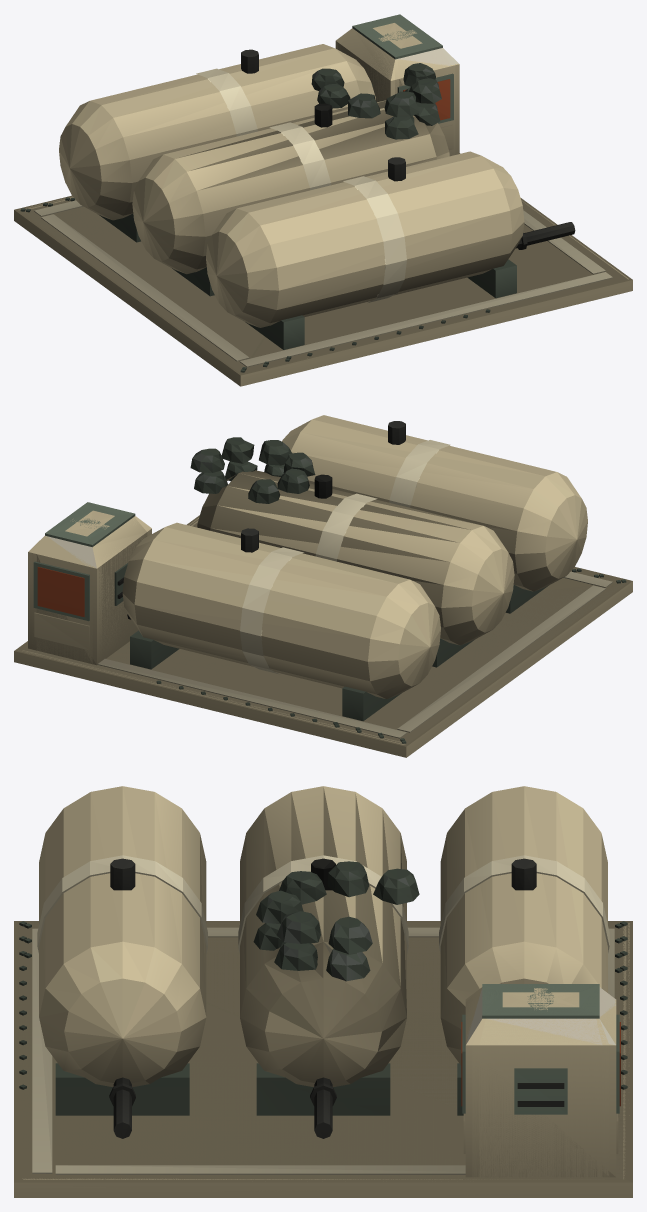
The model's file is neutral_fuel_depot_damaged.glb.
3 renders of one model, top to bottom at view 1: azimuth 30°, elevation 25°; view 2: azimuth 150°, elevation 25°; view 3: azimuth 270°, elevation 25°, orthographic. The views are drawn at different scales.
Visible parts, largest first — view 1: body (×3); view 2: body (×3); view 3: body (×3).
Boxes of the visible parts, box(x1,y1,x2,y2) form: body (×3): box(14, 14, 632, 386); body (×3): box(14, 415, 632, 757); body (×3): box(14, 786, 632, 1197).
Size of the model in its own units: 7.4 by 2.82 by 7.4.
